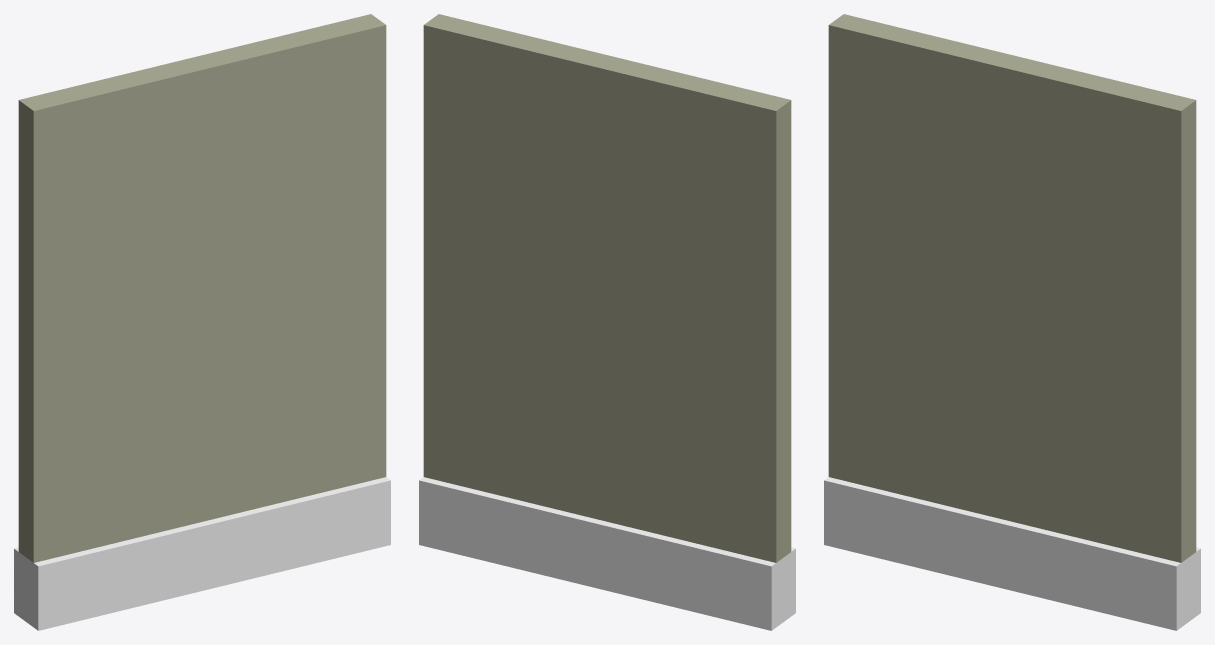
The model's file is Wall_Half.fbx.
3 renders of one model, left to right at view 1: azimuth 30°, elevation 25°; view 2: azimuth 150°, elevation 25°; view 3: azimuth 330°, elevation 25°, orthographic.
Parts seen in each view (by area): view 1: Wall_Half; view 2: Wall_Half; view 3: Wall_Half.
Boxes of the visible parts, x1,y1,x2,y2 form: Wall_Half: (14, 14, 390, 630); Wall_Half: (419, 14, 795, 630); Wall_Half: (824, 14, 1200, 630).
Bounding box in the file's own units: 250 × 350 × 30.
